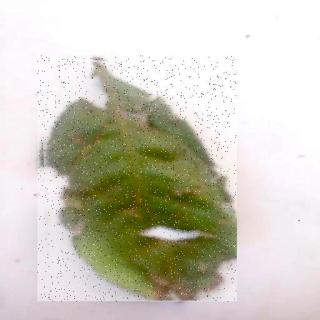Brown Blight: (38, 58, 238, 304)
